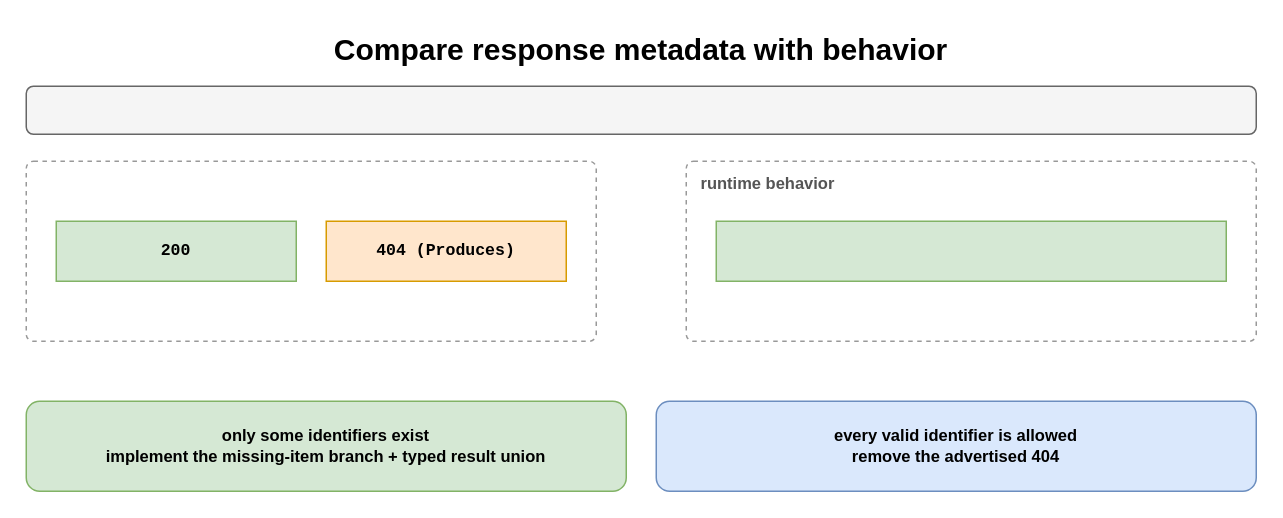
Image size: 1283x518. Some labels were removed from this diagram. Each missing label, with the box of its shape:
always TypedResults.Ok(new { Id = id }): (715, 220, 1226, 281)
generated document: (25, 160, 596, 341)
Produces(404) adds descriptive metadata only: (25, 85, 1256, 134)
